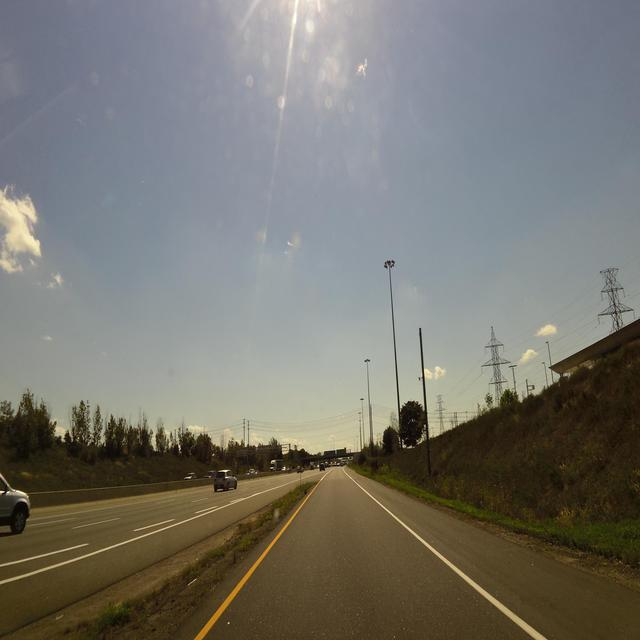Barrier: (26, 477, 214, 514), (236, 469, 296, 482)
Car: (0, 473, 30, 534), (184, 469, 236, 491)
Vegetation: (0, 387, 288, 470), (291, 443, 317, 462)
